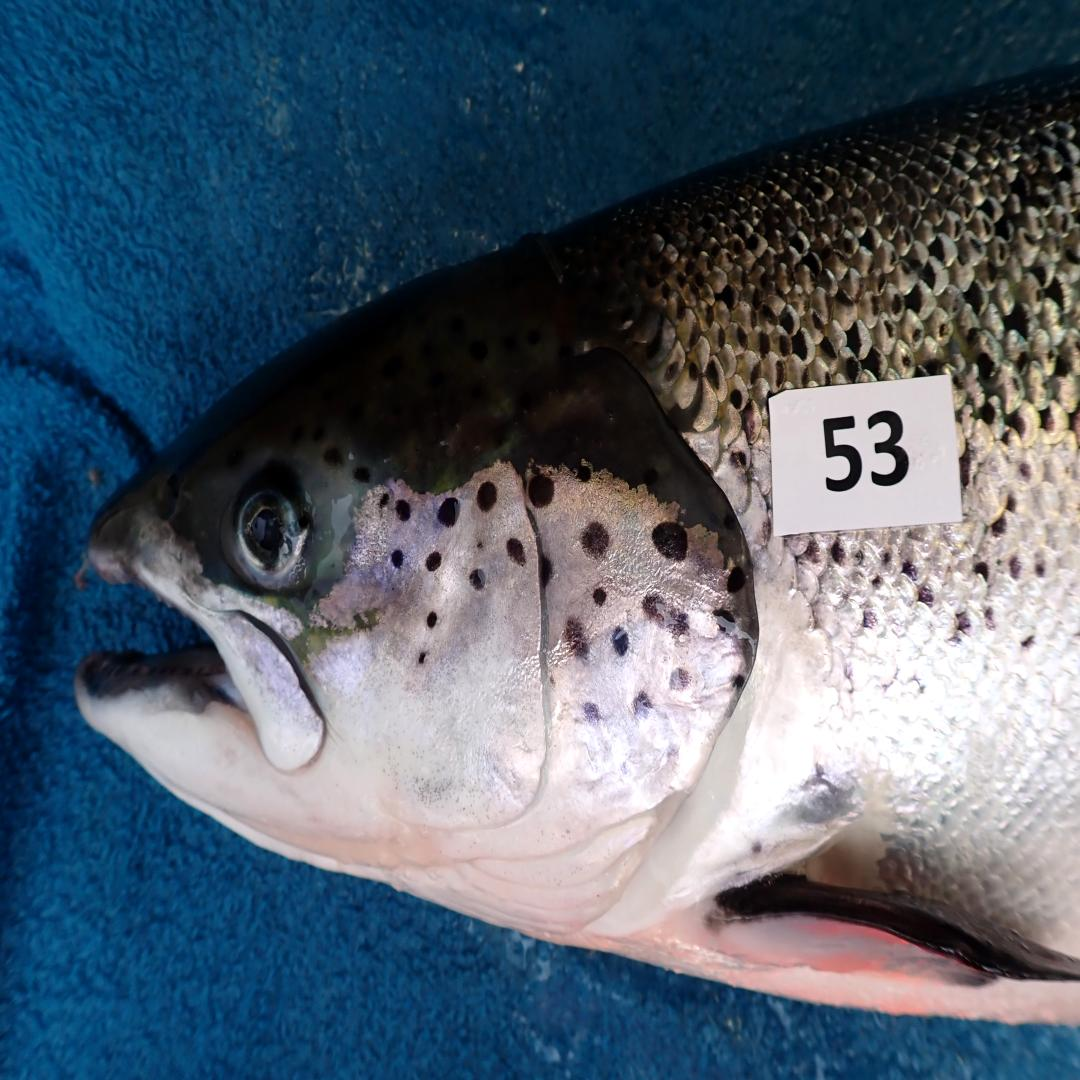roi: (316, 461, 752, 938)
